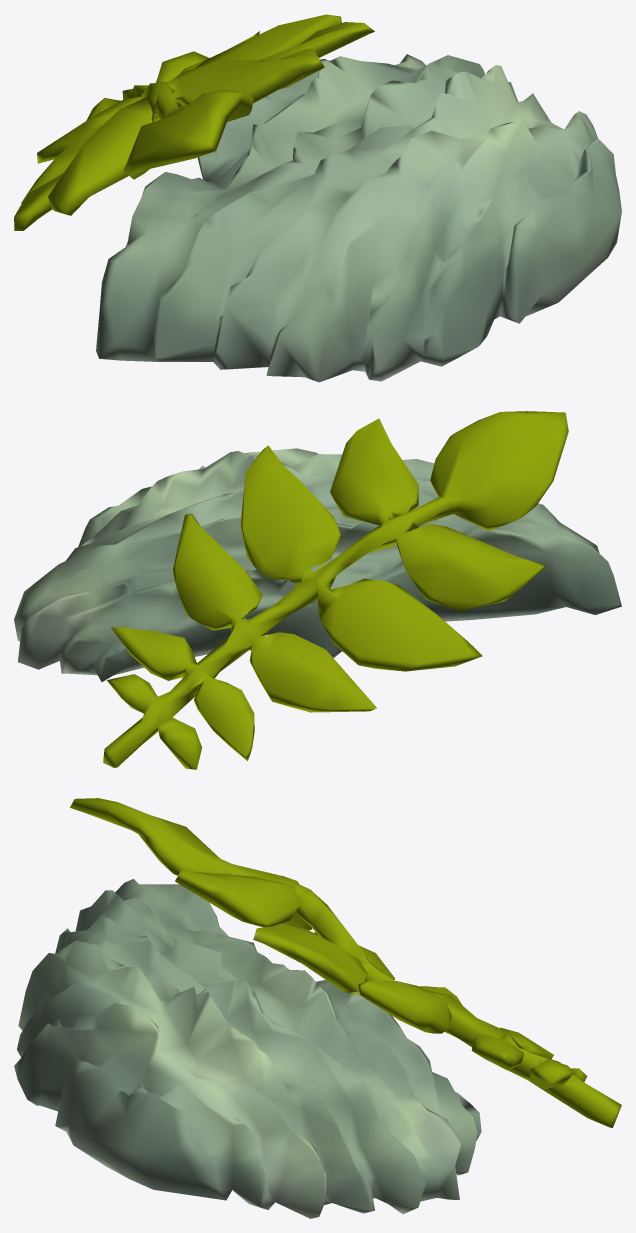
Rendered from ForestEvidence_LOD1.fbx.
3 views of the same model, one above another, from view 1: azimuth 30°, elevation 25°; view 2: azimuth 150°, elevation 25°; view 3: azimuth 270°, elevation 25° (orthographic). The views are drawn at different scales.
Parts seen in each view (by area): view 1: Layer_1; view 2: Layer_1; view 3: Layer_1.
Part boxes in pixels (<box>): Layer_1: <box>14,14,621,382</box>; Layer_1: <box>14,411,621,769</box>; Layer_1: <box>14,798,621,1218</box>.
Bounding box in the file's own units: 0.33 × 0.3535 × 0.1528.
1 material, 1 textured.
